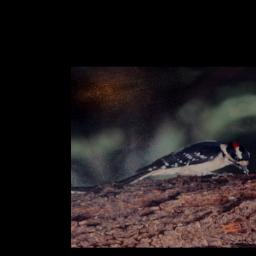Woodpecker: (104, 131, 256, 202)
